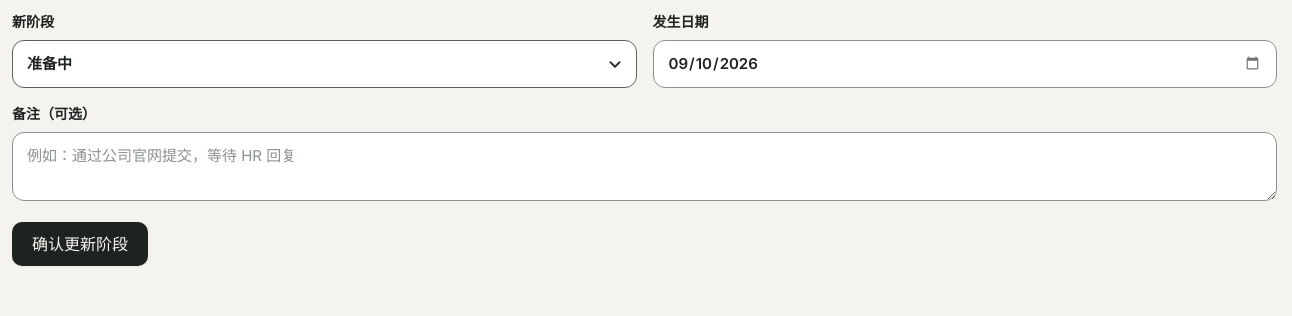
Test: StageUpdateForm › keeps the form visible when the server rejects an unchanged stage
The width and height of the screenshot is (1292, 316).
Select "HR 沟通" in the dropdown labelled "新阶段". click: (324, 64)
box: [12,40,636,88]
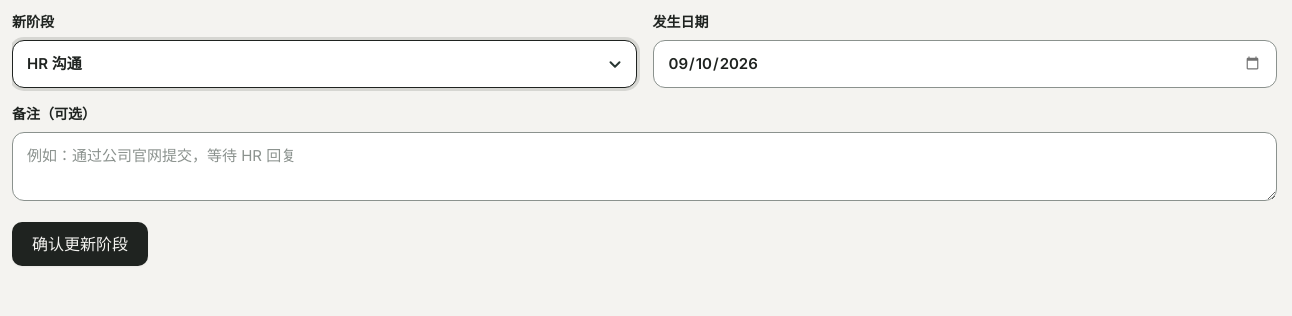
Click the button "确认更新阶段". click: (80, 244)
box: [12,222,148,266]
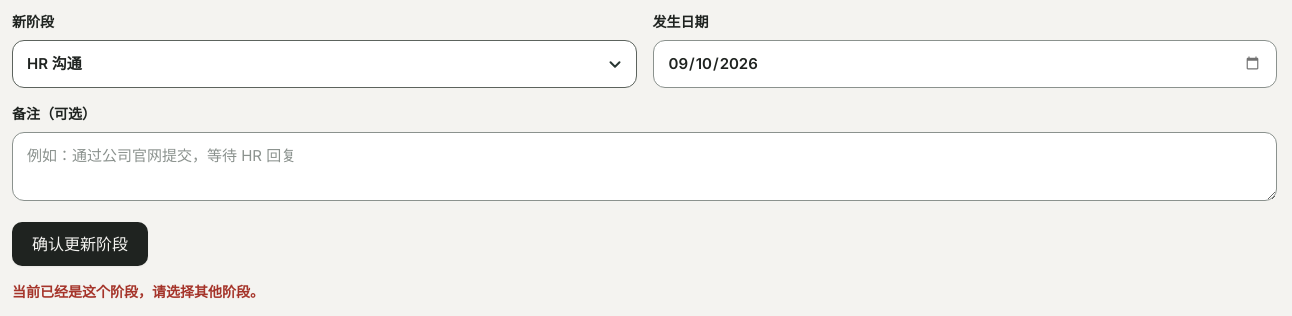
Check: the message shows "当前已经是这个阶段", box [12,283,264,300]
